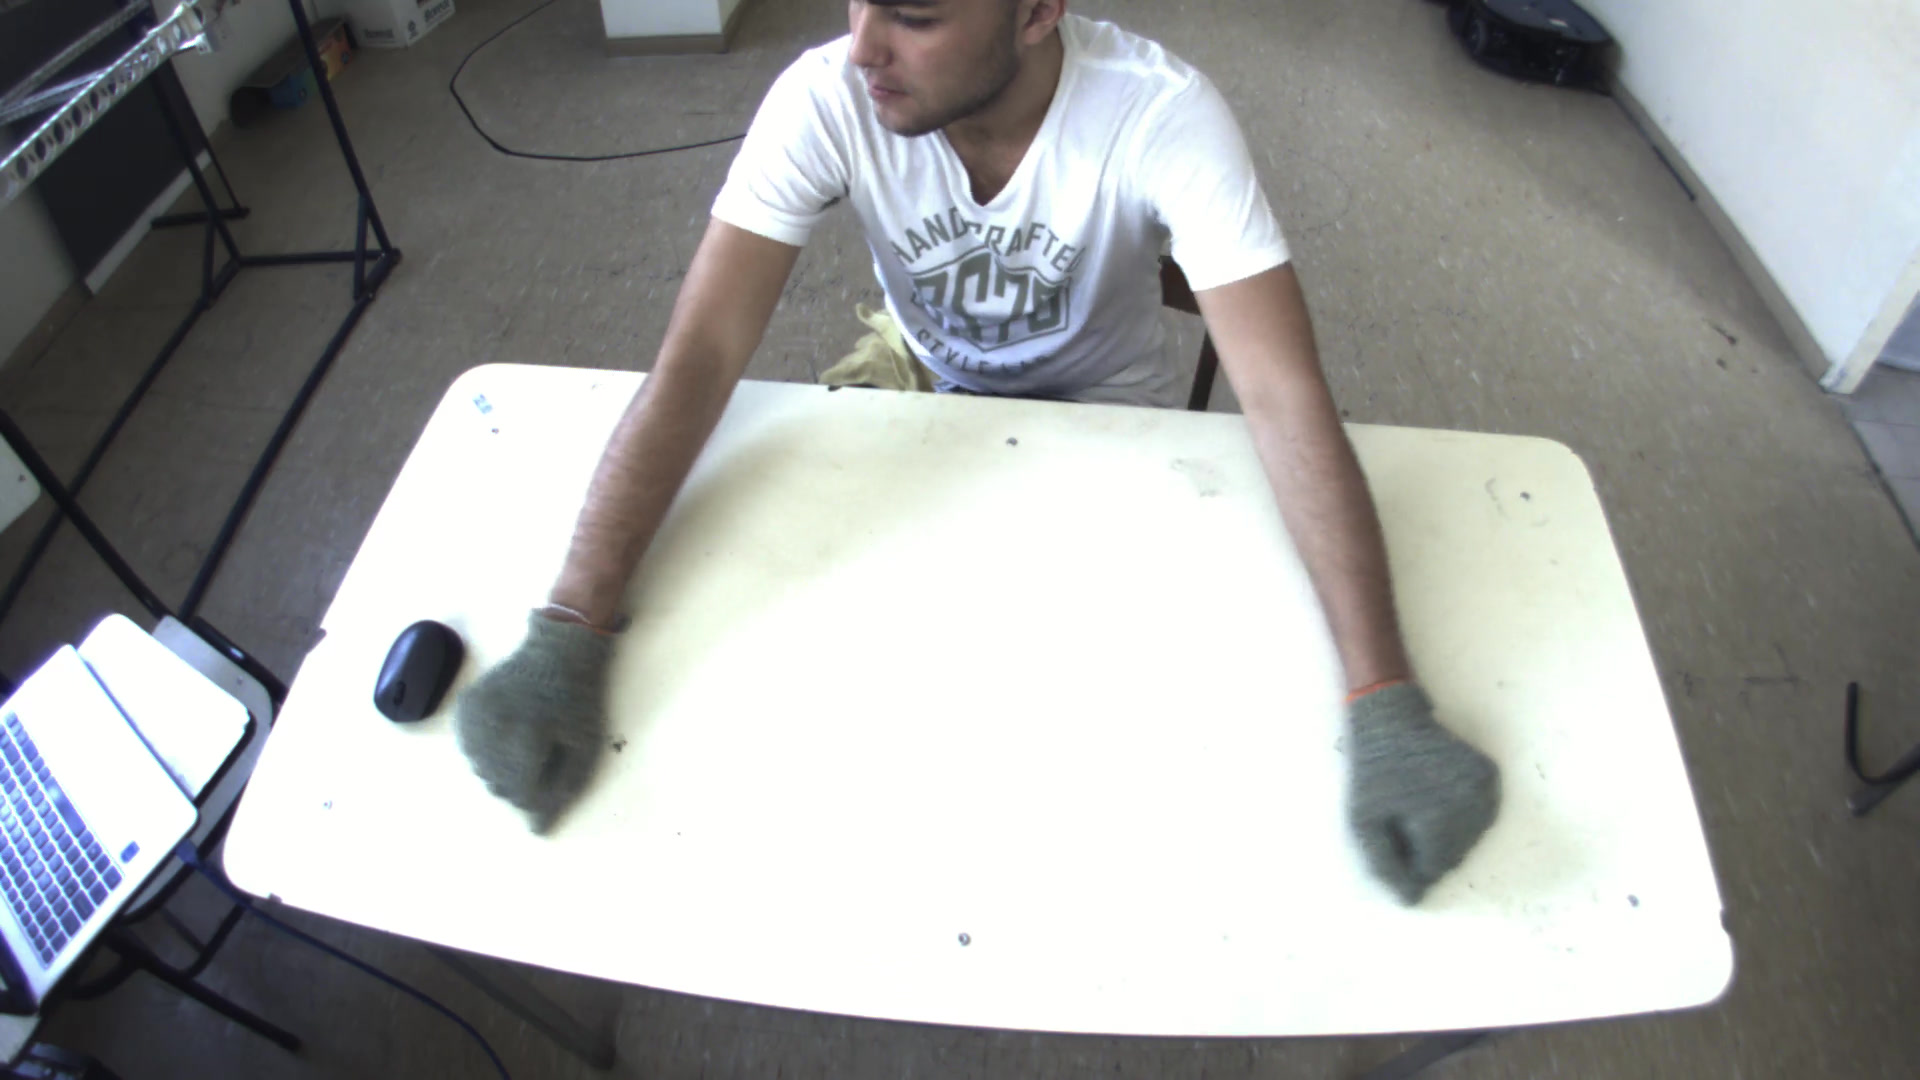hand: (442, 607, 622, 837), (1332, 687, 1518, 906)
